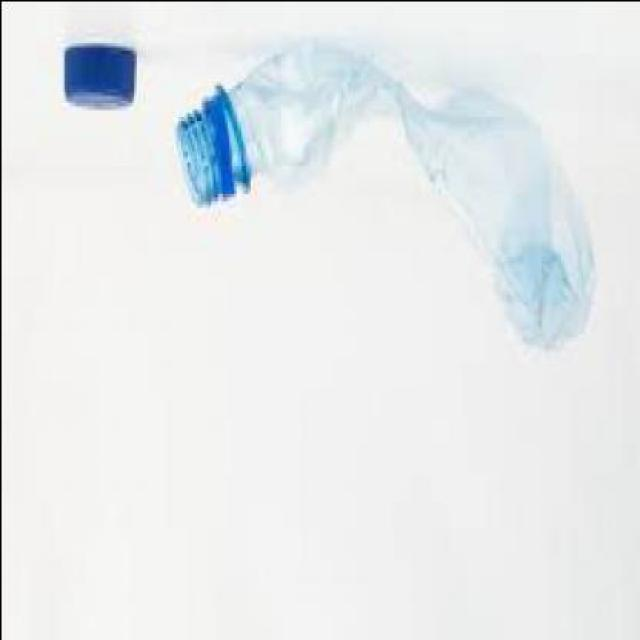PLASTIC: (172, 45, 594, 357), (58, 46, 133, 111)
